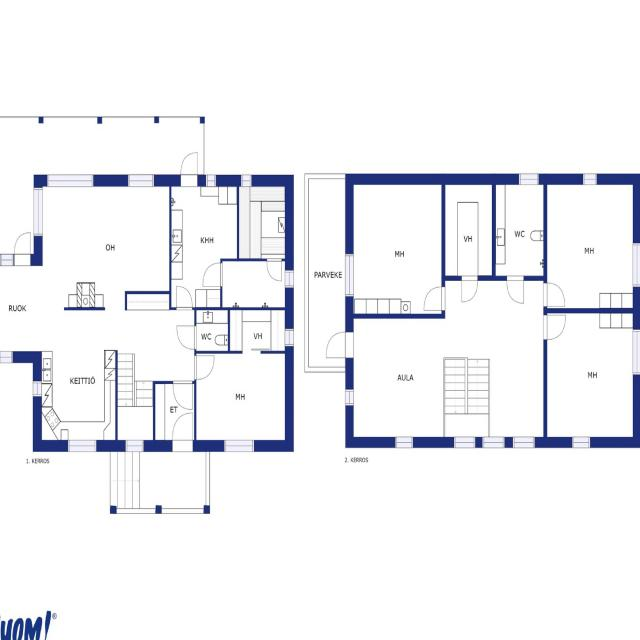door: (172, 413, 193, 452), (326, 333, 354, 358), (180, 152, 198, 186), (543, 315, 565, 339), (174, 381, 192, 410), (14, 233, 30, 265), (543, 283, 565, 306), (506, 276, 524, 303), (424, 287, 445, 310), (194, 356, 214, 380), (176, 326, 196, 349), (203, 263, 222, 286), (462, 276, 478, 302), (176, 286, 192, 310), (267, 259, 282, 281)
